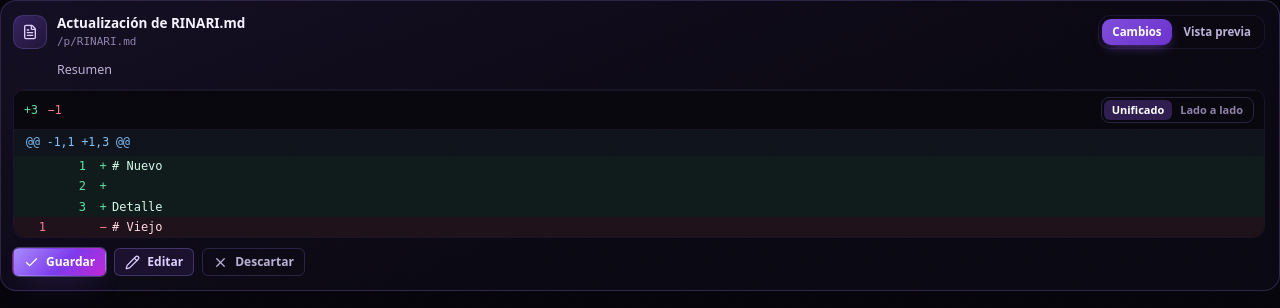
Test: InstructionsProposalCard (#81) › an update shows the changes first, and «Guardar» saves it as proposed
The image size is (1280, 308).
Expected: the text "Actualización de RINARI.md" is shown, [57,14,245,32]
Expected: the element with test id "instructions-proposal-body" shows "# Nuevo", [112,159,163,173]
Click the button with test id "instructions-proposal-save". click: [60, 262]
box: [13,248,106,276]
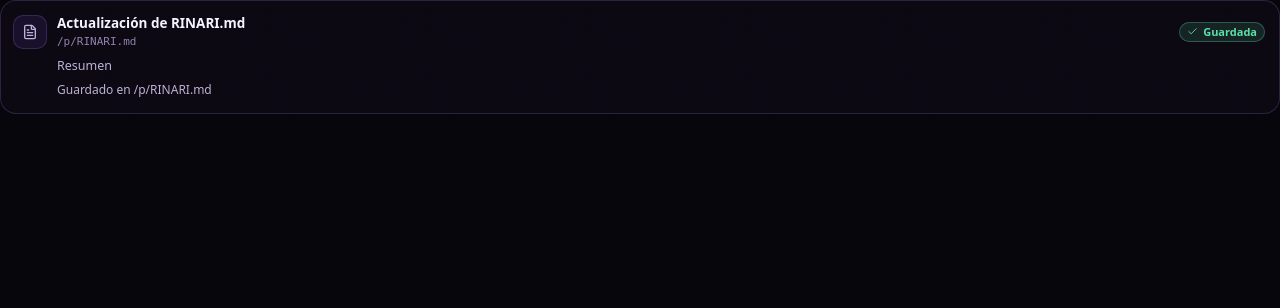
Result: the message with test id "instructions-proposal-outcome" shows "Guardado" at [57,81,212,98]
